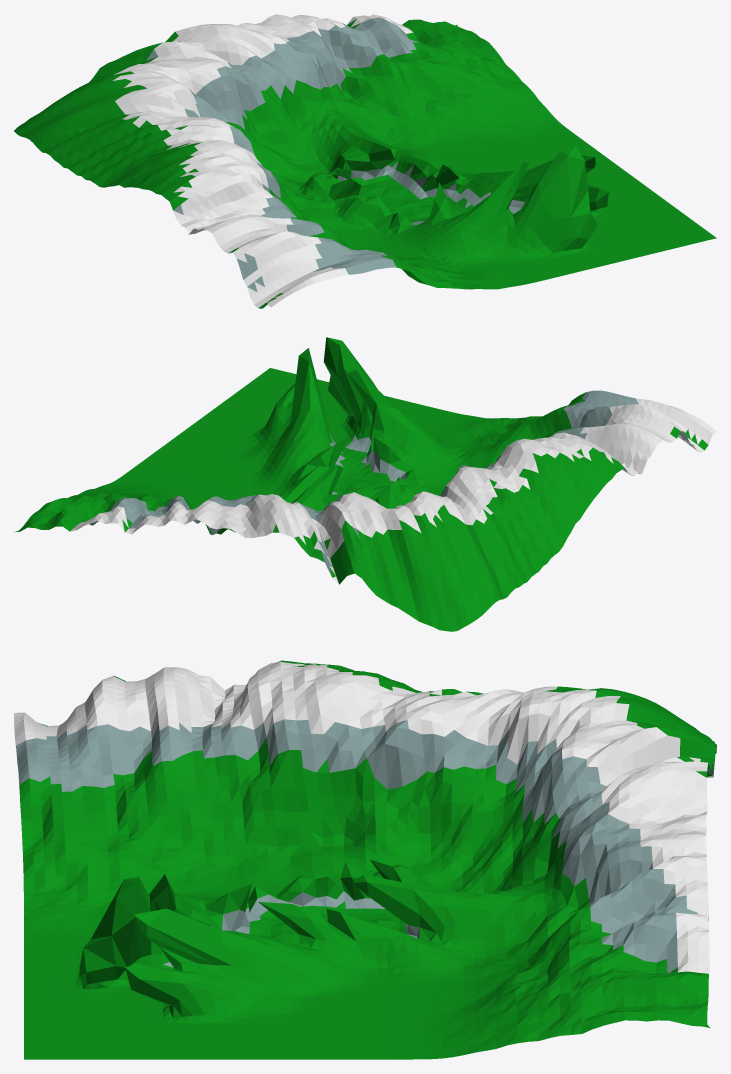
Rendered from Terrain2.dae.
The picture shows the model from 3 angles, top to bottom: view 1: azimuth 30°, elevation 25°; view 2: azimuth 150°, elevation 25°; view 3: azimuth 270°, elevation 25°; orthographic projection. The views are drawn at different scales.
Parts seen in each view (by area): view 1: Plane; view 2: Plane; view 3: Plane.
Part boxes in pixels (left/top/right/bottom): Plane: left=14, top=14, right=716, bottom=308; Plane: left=14, top=337, right=716, bottom=631; Plane: left=14, top=660, right=716, bottom=1059.
Bounding box in the file's own units: 221 × 222 × 46.67.
